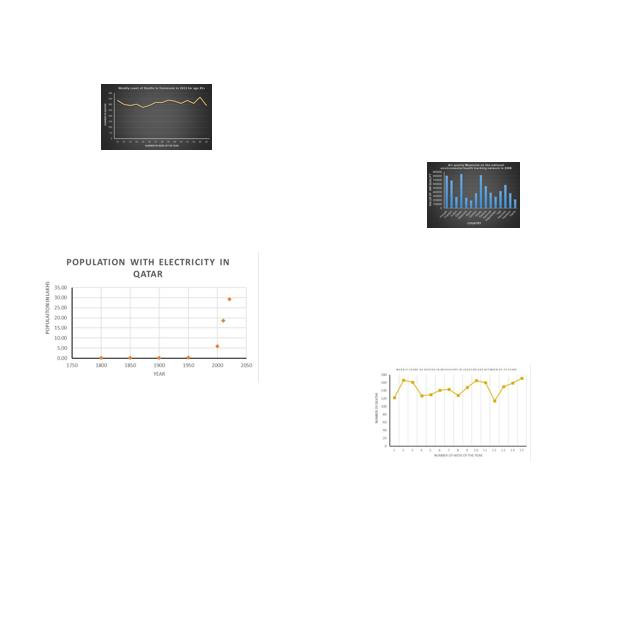Graph: (39, 252, 259, 383), (371, 364, 531, 462), (101, 84, 212, 150), (427, 162, 520, 228)
